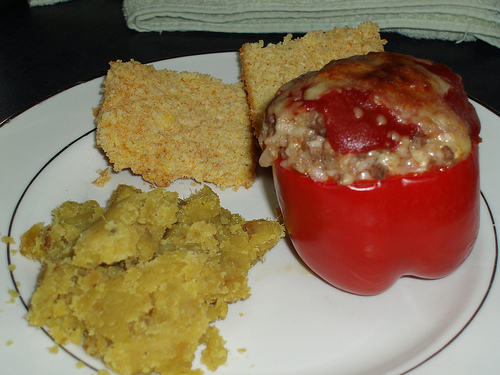capsicum: (271, 130, 482, 298)
